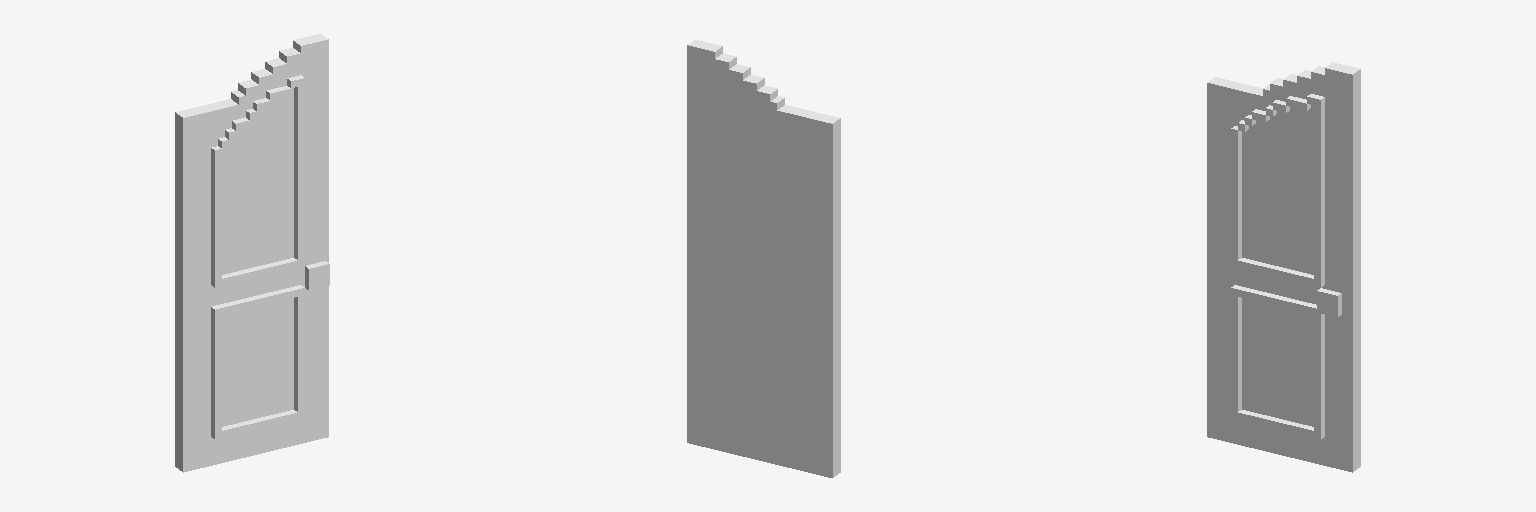
Rendered from closet_door_L.obj.
3 renders of one model, left to right at view 1: azimuth 30°, elevation 25°; view 2: azimuth 150°, elevation 25°; view 3: azimuth 330°, elevation 25°, orthographic.
Visible parts, largest first — view 1: object 1; view 2: object 1; view 3: object 1.
Boxes of the visible parts, x1,y1,x2,y2 form: object 1: [175, 34, 329, 472]; object 1: [687, 39, 840, 477]; object 1: [1207, 62, 1360, 472].
Bounding box in the file's own units: 2.1 × 5.5 × 0.4.